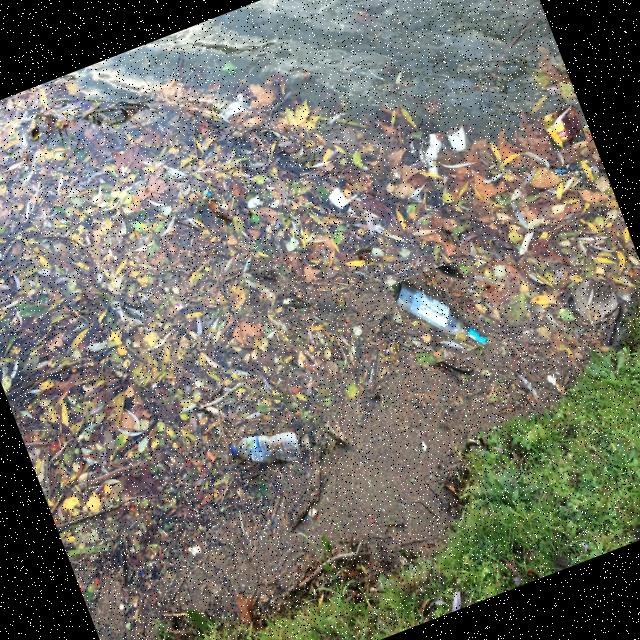Clear plastic bottle: (231, 432, 302, 463)
Glass bottle: (395, 281, 488, 344)
Other plastic: (547, 105, 574, 148), (557, 165, 583, 179)
Unlabeled litter: (447, 125, 467, 152)
